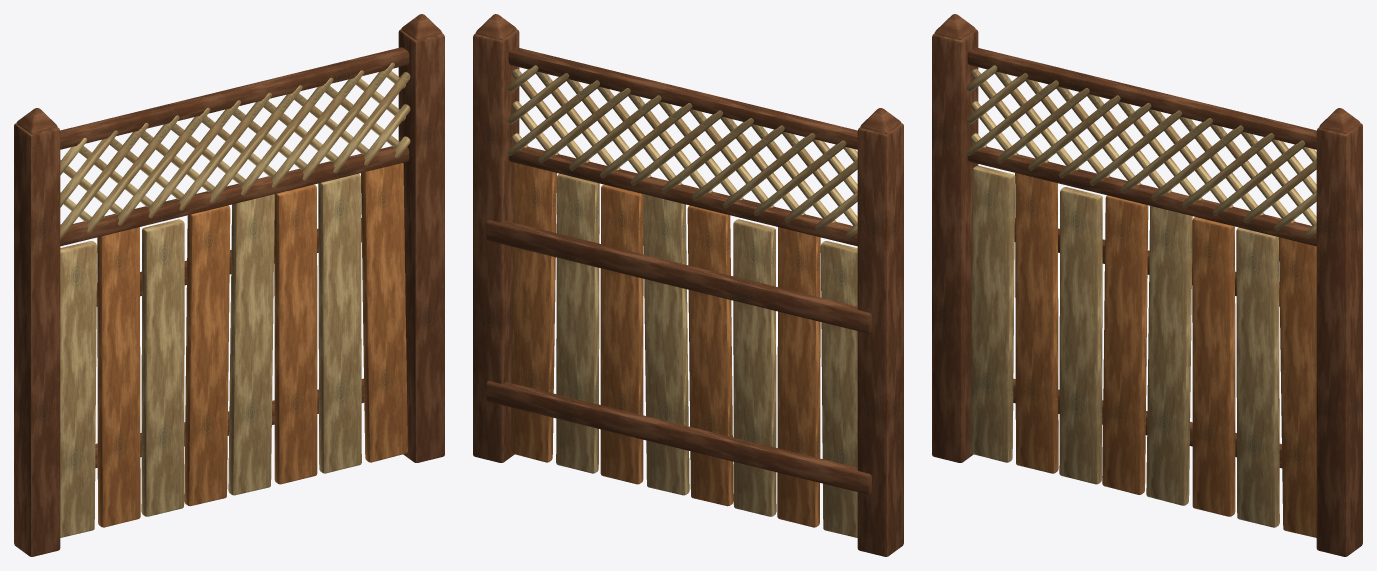
Rendered from valla.gltf.
The picture shows the model from 3 angles, left to right: view 1: azimuth 30°, elevation 25°; view 2: azimuth 150°, elevation 25°; view 3: azimuth 330°, elevation 25°; orthographic projection.
Visible parts, largest first — view 1: valla; view 2: valla; view 3: valla.
Boxes of the visible parts, left/top/right/bottom form: valla: left=14, top=14, right=444, bottom=556; valla: left=473, top=14, right=903, bottom=556; valla: left=932, top=14, right=1362, bottom=556.
Bounding box in the file's own units: 2.16 × 2.19 × 0.18.
Materials: 3 (3 with a texture image).
